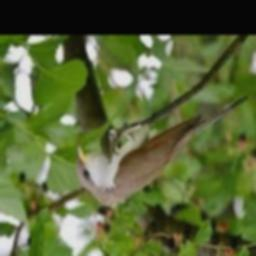Cuckoo: (77, 95, 248, 207)
